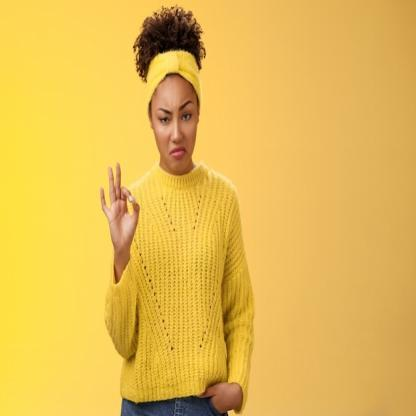ok: (97, 160, 142, 262)
